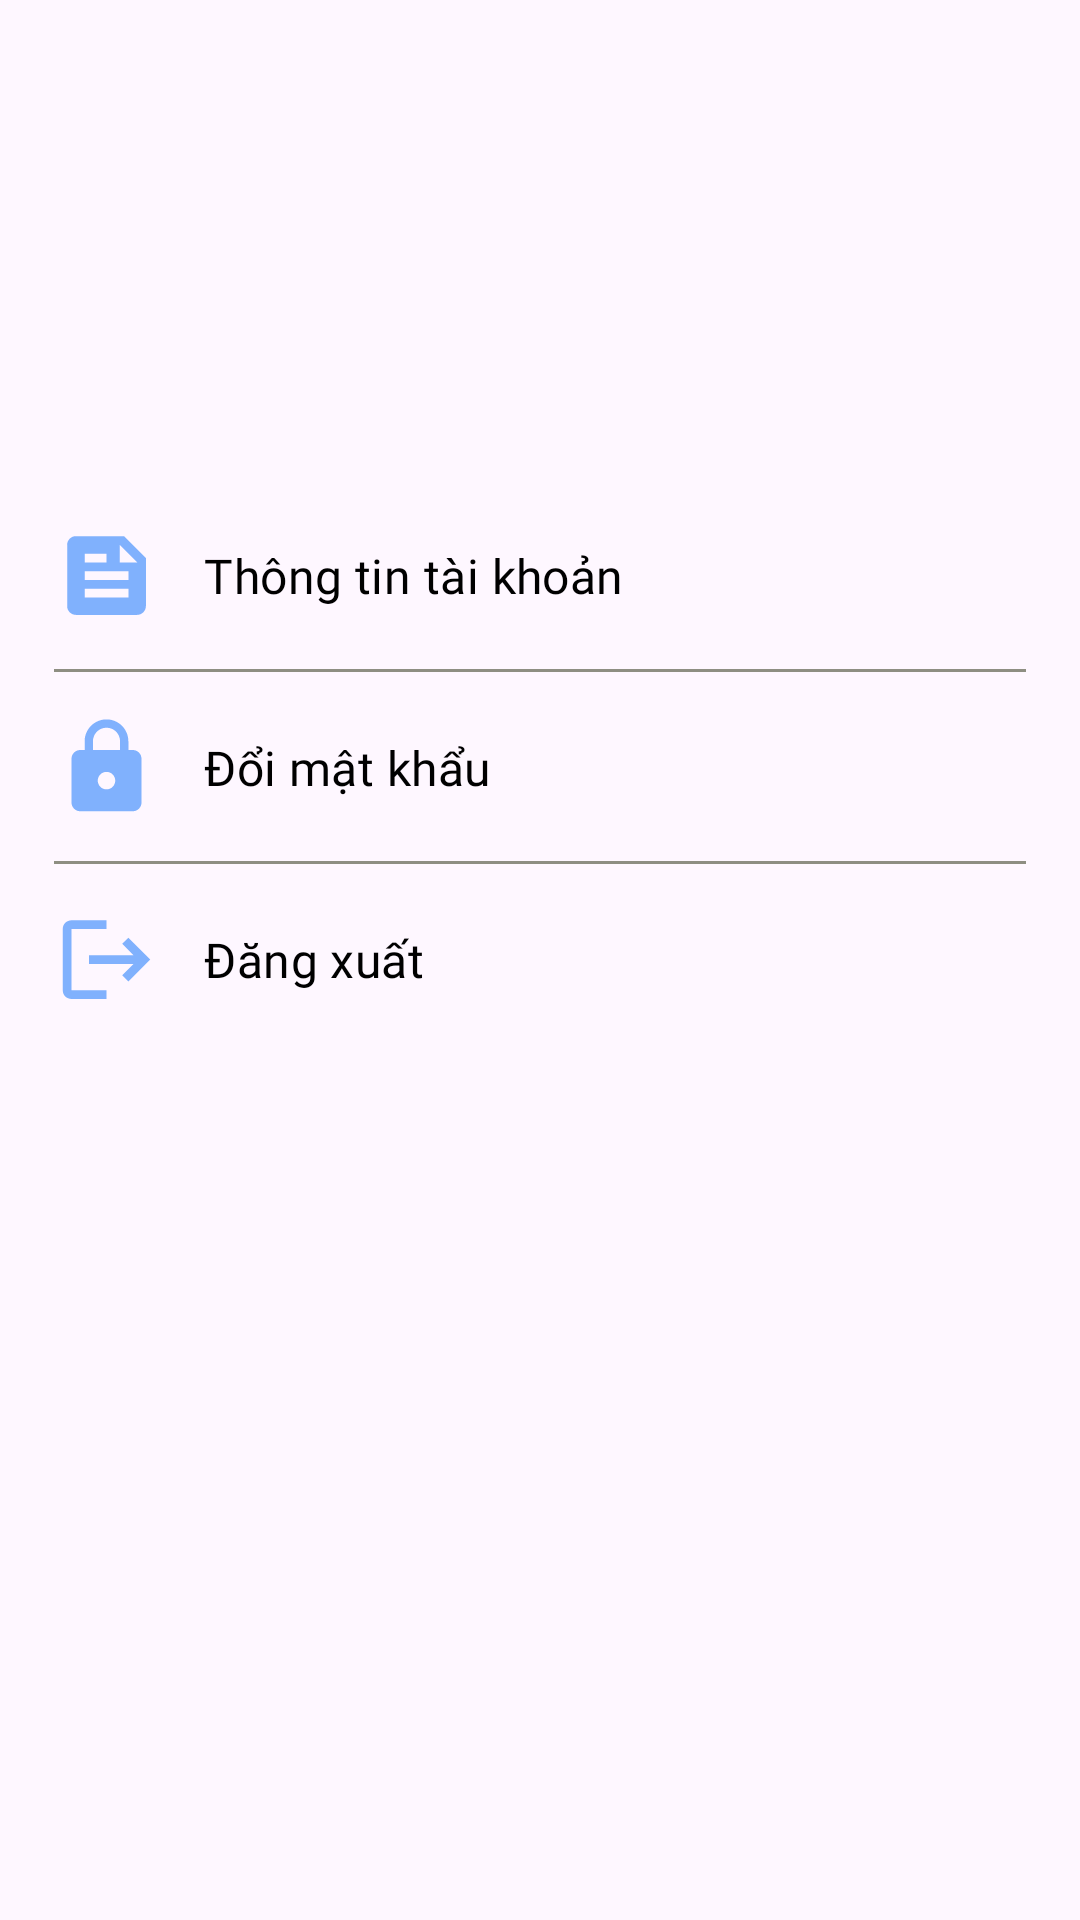

Screen size 1080px×1920px. Icon name, then its center in pixels as (x,y):
lock: (106,765)
